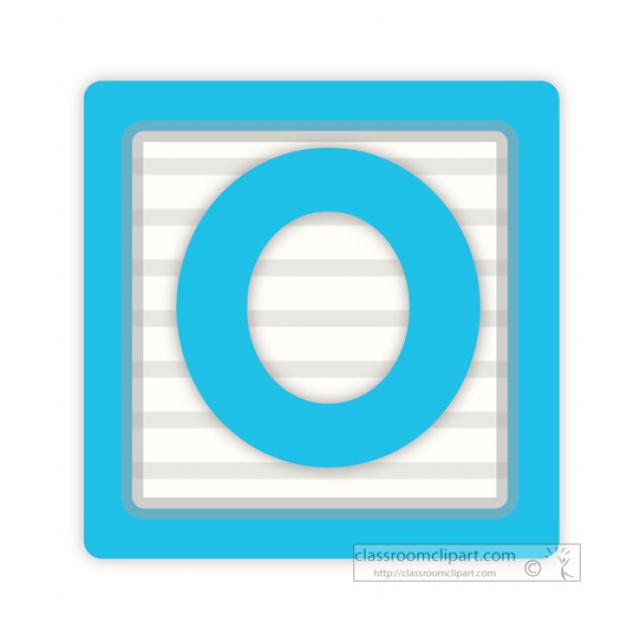O: (153, 136, 493, 483)
